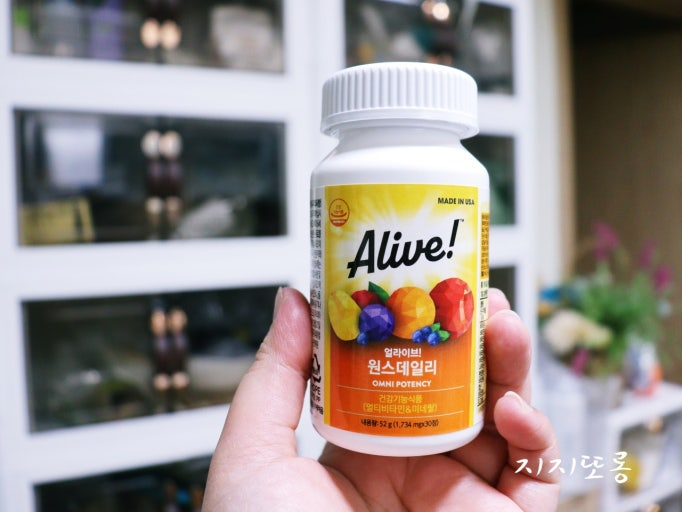supplement_label: (300, 181, 497, 441)
